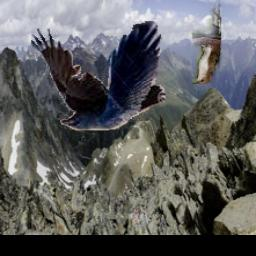Crow: (31, 20, 166, 130)
Cuckoo: (193, 0, 222, 84)
